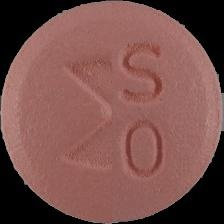0591-2168: (0, 0, 224, 224)
